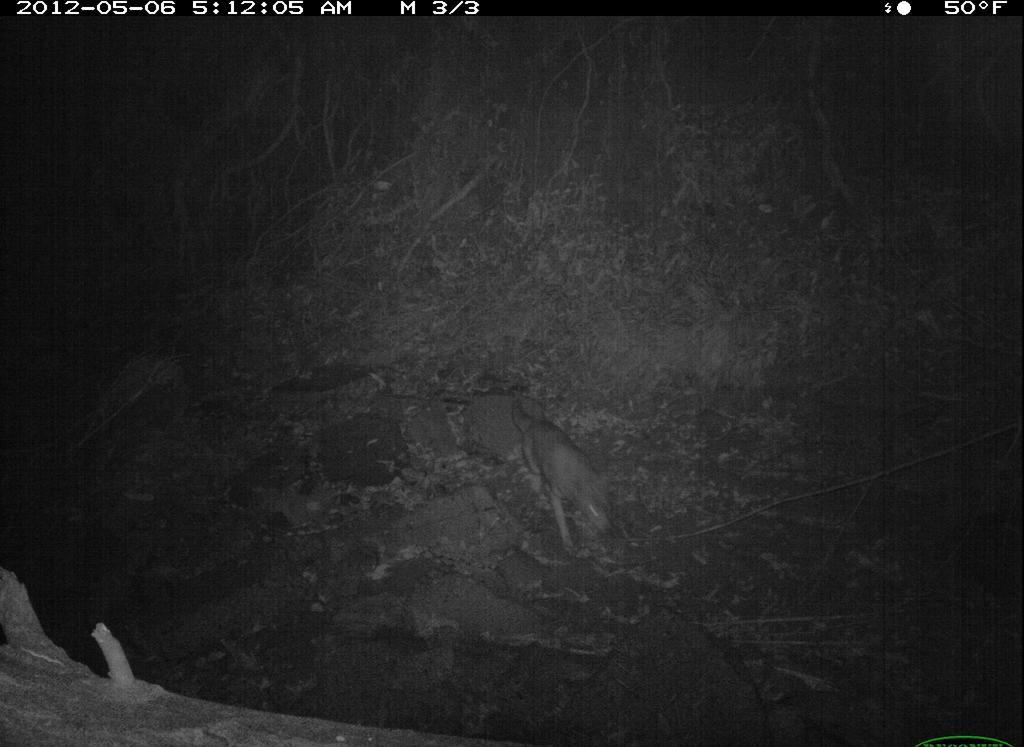coyote: (498, 388, 624, 560)
